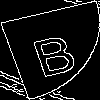B: (25, 24, 81, 78)
